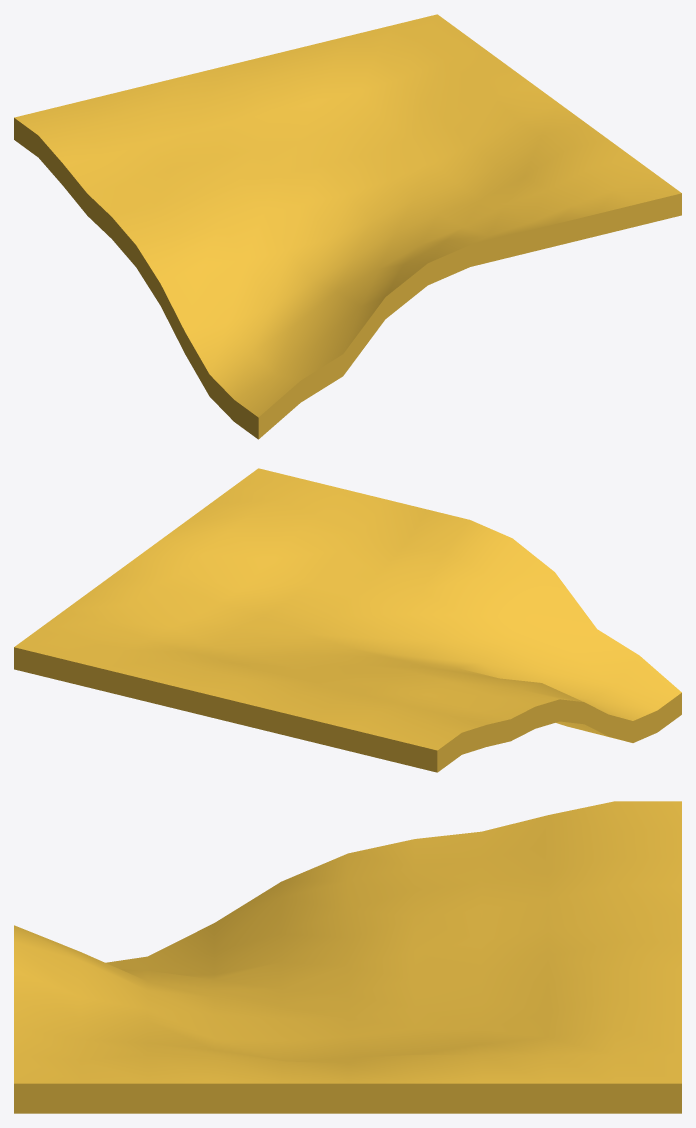
File: Flach - Unten - Ecke Invertiert a - b.fbx
3 views of the same model, one above another, from view 1: azimuth 30°, elevation 25°; view 2: azimuth 150°, elevation 25°; view 3: azimuth 270°, elevation 25° (orthographic). The views are drawn at different scales.
Visible parts, largest first — view 1: Flach - Unten - Ecke Invertiert a - b; view 2: Flach - Unten - Ecke Invertiert a - b; view 3: Flach - Unten - Ecke Invertiert a - b.
Part boxes in pixels (left/top/right/bottom): Flach - Unten - Ecke Invertiert a - b: left=14, top=14, right=681, bottom=439; Flach - Unten - Ecke Invertiert a - b: left=14, top=468, right=681, bottom=772; Flach - Unten - Ecke Invertiert a - b: left=14, top=801, right=681, bottom=1113.
Bounding box in the file's own units: 394 × 127 × 394.
